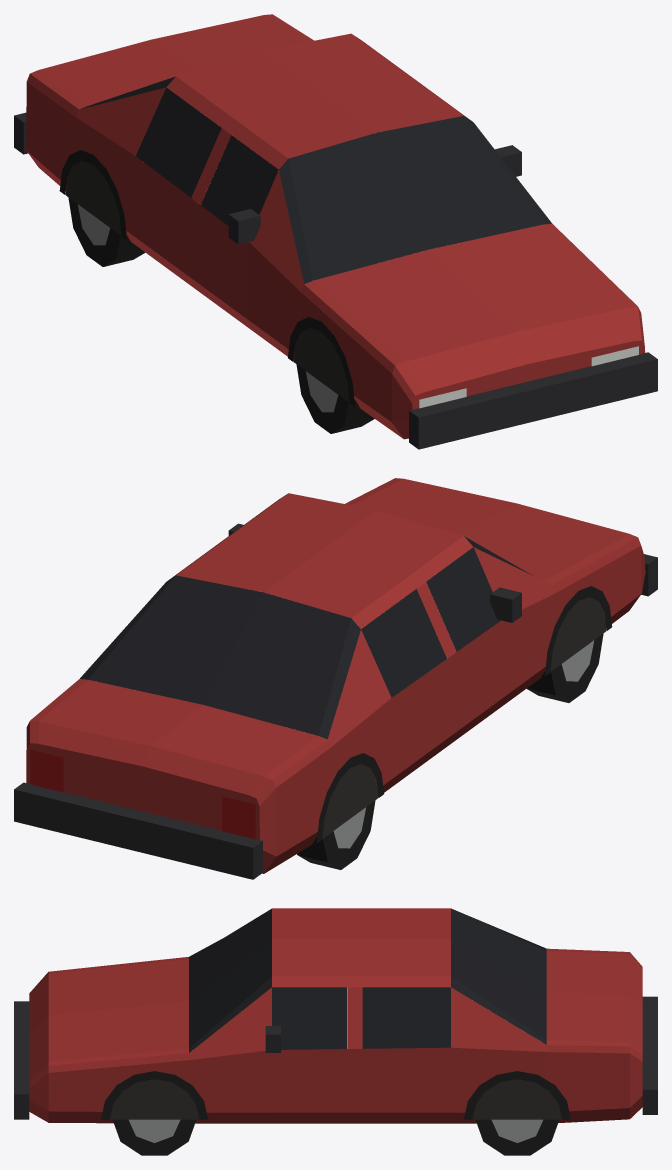
Rendered from town_car_red.gltf.
3 renders of one model, top to bottom at view 1: azimuth 30°, elevation 25°; view 2: azimuth 150°, elevation 25°; view 3: azimuth 270°, elevation 25°, orthographic. The views are drawn at different scales.
Visible parts, largest first — view 1: TownCarRed_Body, TownCarRed_Glass, TownCarRed_Bumpers, TownCarRed_Arches, TownCarRed_Tyres, TownCarRed_Mirrors, TownCarRed_Rims, TownCarRed_Headlights; view 2: TownCarRed_Body, TownCarRed_Glass, TownCarRed_Bumpers, TownCarRed_Arches, TownCarRed_Tyres, TownCarRed_Taillights, TownCarRed_Rims, TownCarRed_Mirrors; view 3: TownCarRed_Body, TownCarRed_Glass, TownCarRed_Arches, TownCarRed_Bumpers, TownCarRed_Tyres, TownCarRed_Rims, TownCarRed_Mirrors.
Part boxes in pixels (bbox=[...]): TownCarRed_Body: bbox=[26, 14, 645, 439]; TownCarRed_Glass: bbox=[80, 76, 551, 283]; TownCarRed_Bumpers: bbox=[14, 112, 657, 449]; TownCarRed_Arches: bbox=[59, 150, 354, 406]; TownCarRed_Tyres: bbox=[68, 197, 374, 433]; TownCarRed_Mirrors: bbox=[228, 145, 521, 244]; TownCarRed_Rims: bbox=[77, 204, 338, 412]; TownCarRed_Headlights: bbox=[419, 346, 638, 408]; TownCarRed_Body: bbox=[26, 478, 645, 873]; TownCarRed_Glass: bbox=[80, 536, 533, 739]; TownCarRed_Bumpers: bbox=[14, 554, 657, 879]; TownCarRed_Arches: bbox=[316, 586, 612, 843]; TownCarRed_Tyres: bbox=[297, 633, 603, 869]; TownCarRed_Taillights: bbox=[30, 749, 255, 839]; TownCarRed_Rims: bbox=[333, 640, 594, 848]; TownCarRed_Mirrors: bbox=[228, 523, 521, 622]; TownCarRed_Body: bbox=[29, 908, 642, 1123]; TownCarRed_Glass: bbox=[189, 908, 546, 1052]; TownCarRed_Arches: bbox=[101, 1071, 570, 1119]; TownCarRed_Bumpers: bbox=[14, 996, 657, 1119]; TownCarRed_Tyres: bbox=[113, 1119, 558, 1155]; TownCarRed_Rims: bbox=[129, 1119, 542, 1142]; TownCarRed_Mirrors: bbox=[265, 1026, 280, 1052].
Size of what is drawn, in the model's own units: 2.04 by 1.44 by 5.04.
1 material, 1 textured.
